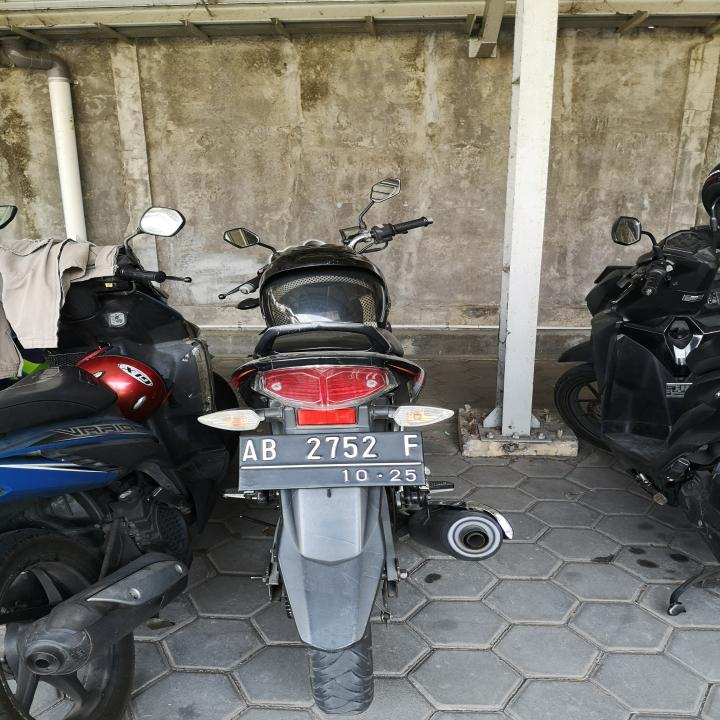plate: (234, 430, 429, 492)
